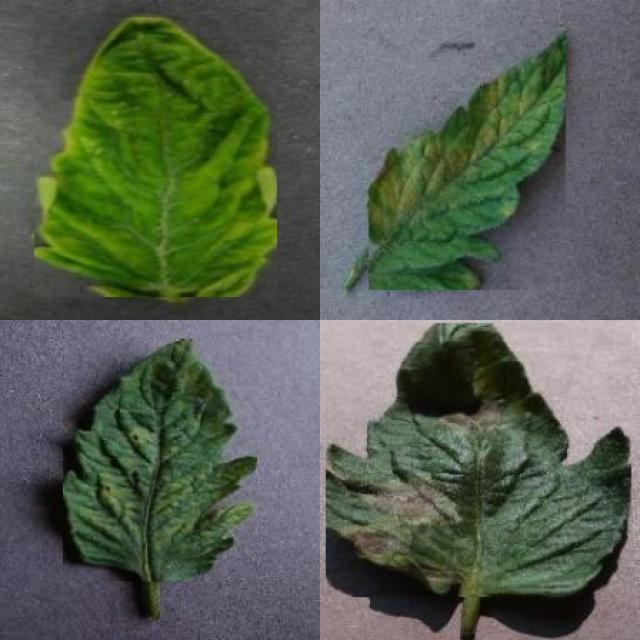Late Blight: (326, 322, 631, 598)
Leaf Mold: (368, 28, 566, 291)
Mosaic Virus: (62, 338, 258, 582)
Yellow Leaf Curl Virus: (34, 15, 277, 298)
